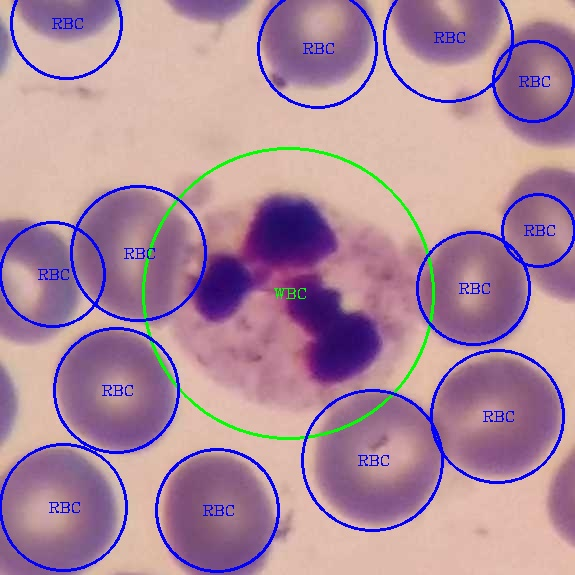RBC: (308, 385, 448, 532), (48, 325, 184, 458), (70, 180, 193, 326), (431, 351, 563, 479), (157, 448, 292, 573), (0, 440, 127, 572), (412, 223, 533, 352), (252, 0, 380, 97), (487, 13, 573, 156), (496, 158, 573, 310), (0, 210, 83, 348), (383, 0, 508, 70)
WBC: (175, 164, 413, 401)
